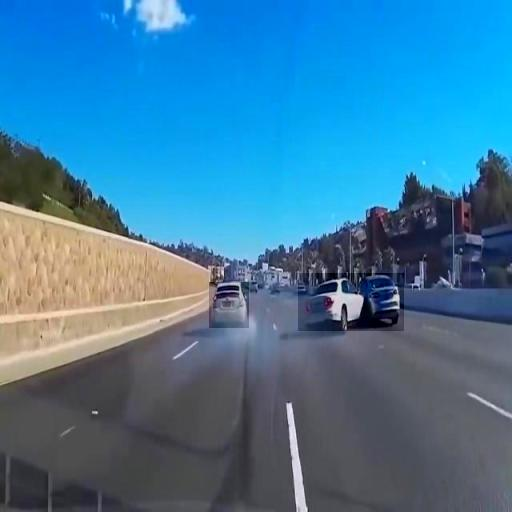小汽车: (210, 282, 250, 328)
小汽车撞小汽车: (298, 273, 404, 331)
